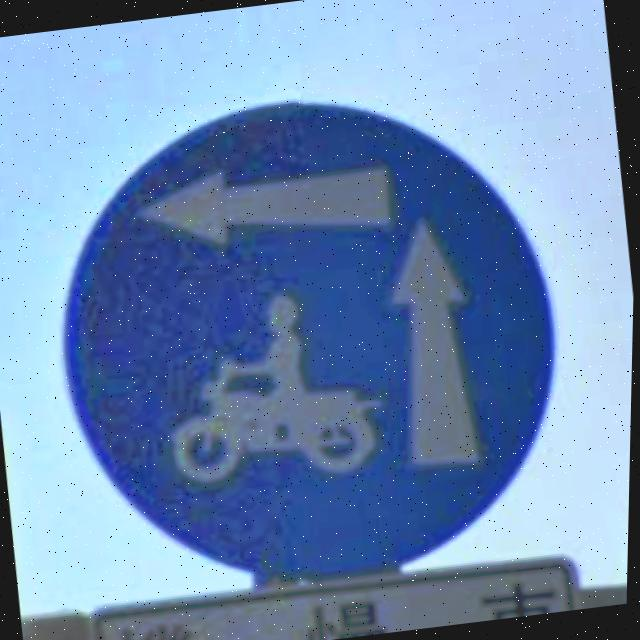twostageturn: (63, 102, 558, 580)
